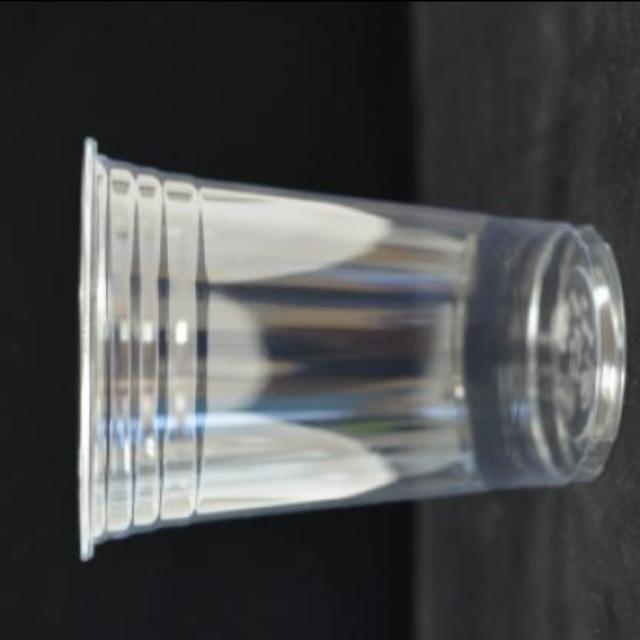plastic_cup: (76, 132, 624, 560)
